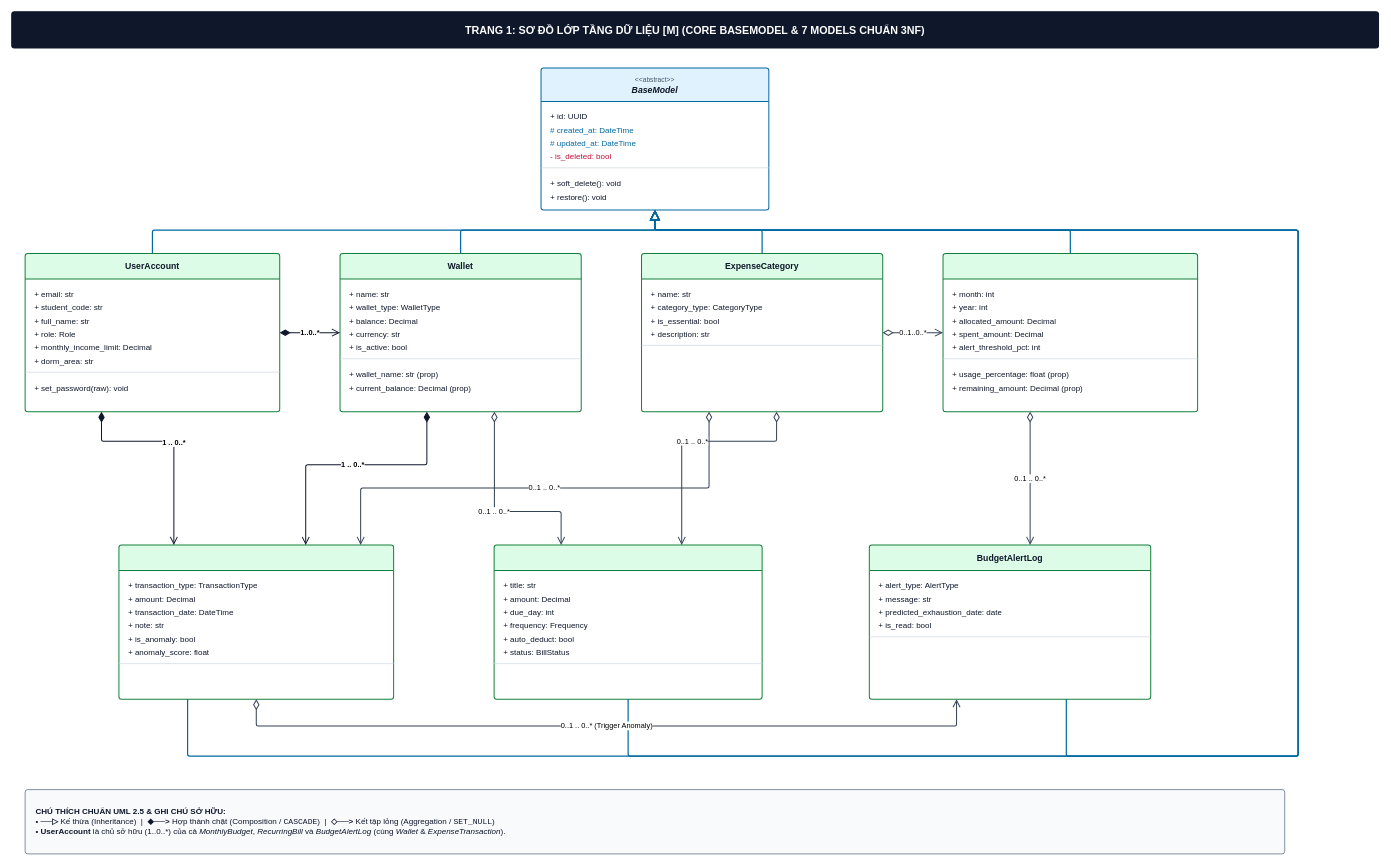
The diagram is 1391 pixels wide and 866 high, and some of its shapes have lost their labels. Each missing label, with the box of its shape:
ExpenseTransaction: (118, 544, 394, 699)
MonthlyBudget: (942, 253, 1198, 412)
RecurringBill: (493, 544, 762, 699)
